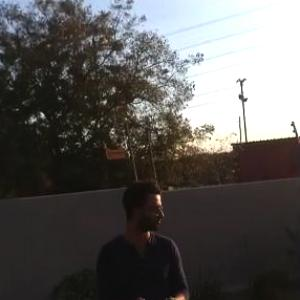follow: (90, 165, 196, 299)
